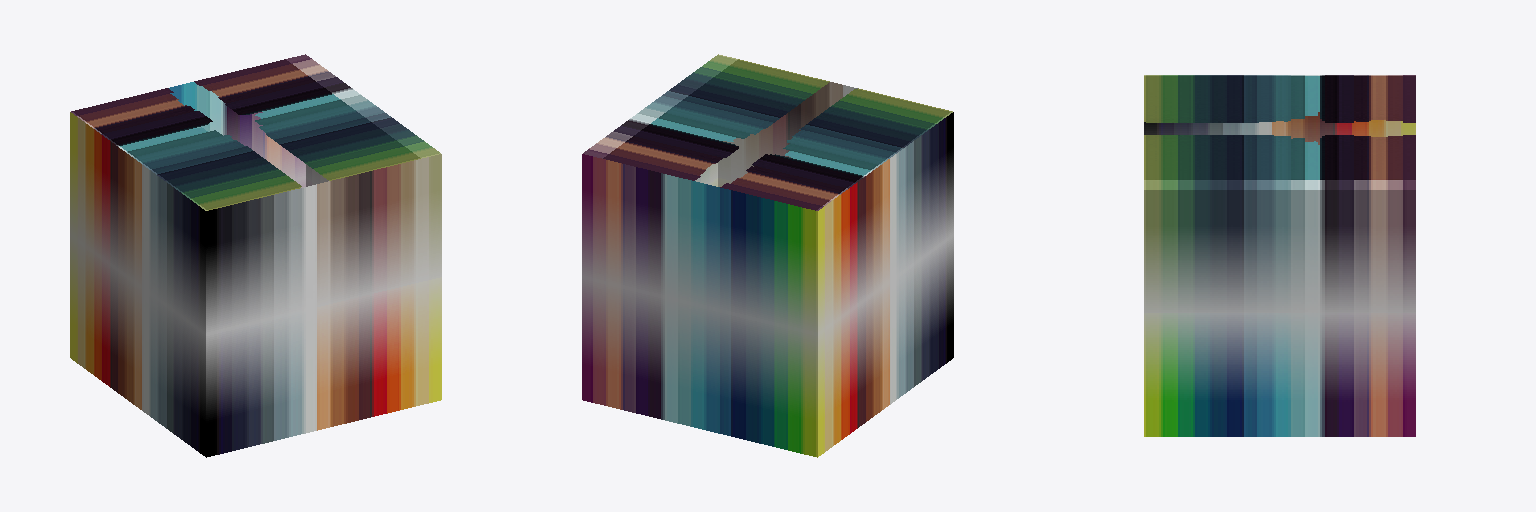
3 renders of one model, left to right at view 1: azimuth 30°, elevation 25°; view 2: azimuth 150°, elevation 25°; view 3: azimuth 270°, elevation 25°, orthographic.
Parts seen in each view (by area): view 1: Cube; view 2: Cube; view 3: Cube.
Boxes of the visible parts, box(x1,y1,x2,y2) form: Cube: box(70, 54, 441, 457); Cube: box(582, 54, 953, 457); Cube: box(1144, 75, 1415, 436).
Bounding box in the file's own units: 1 × 1 × 1.
Materials: 1 (1 with a texture image).